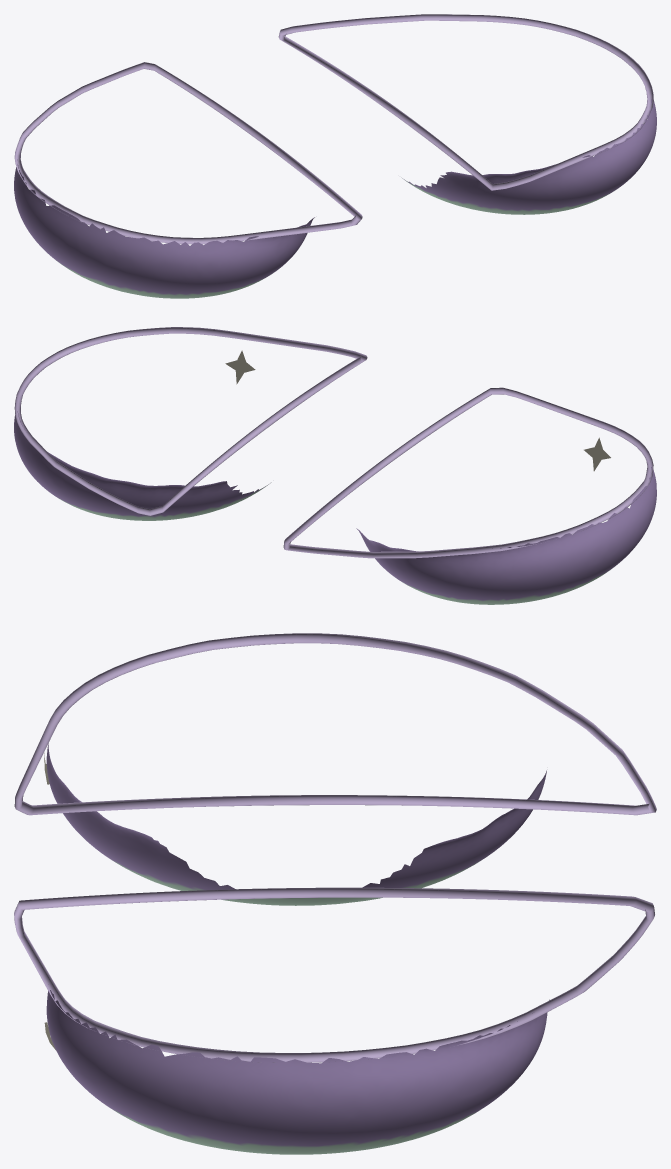
File: 06-boots.glb
3 renders of one model, top to bottom at view 1: azimuth 30°, elevation 25°; view 2: azimuth 150°, elevation 25°; view 3: azimuth 270°, elevation 25°, orthographic. The views are drawn at different scales.
Visible parts, largest first — view 1: boots_left, boots_right; view 2: boots_left, boots_right; view 3: boots_right, boots_left.
Boxes of the visible parts, x1=… form: boots_left: x1=14, y1=62, x2=362, y2=298; boots_right: x1=278, y1=14, x2=656, y2=214; boots_left: x1=283, y1=387, x2=656, y2=604; boots_right: x1=14, y1=327, x2=367, y2=520; boots_right: x1=14, y1=887, x2=654, y2=1154; boots_left: x1=14, y1=633, x2=656, y2=905.
Bounding box in the file's own units: 1.32 × 0.186 × 0.8405.
